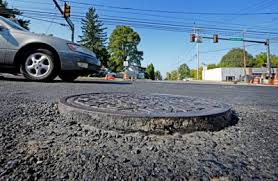Manhole-Closed: (55, 85, 247, 135)
